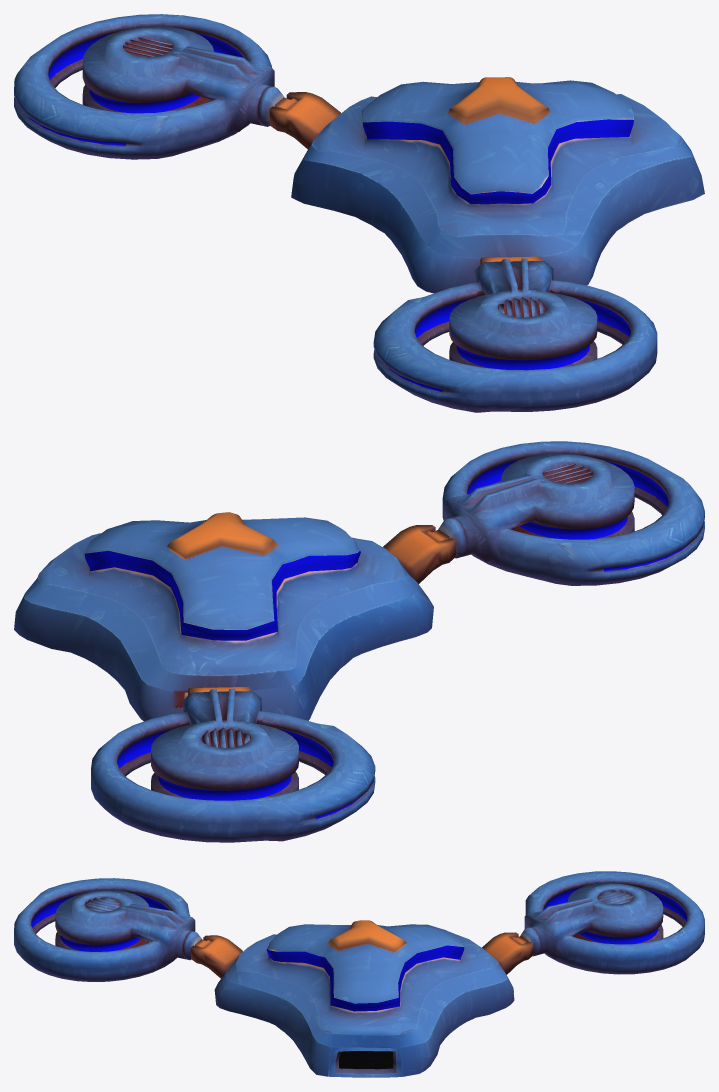
Rendered from drone_3.fbx.
3 views of the same model, one above another, from view 1: azimuth 30°, elevation 25°; view 2: azimuth 150°, elevation 25°; view 3: azimuth 270°, elevation 25° (orthographic). The views are drawn at different scales.
Visible parts, largest first — view 1: drone_base, DRON DL-3.005, DRON DL-3.001; view 2: drone_base, DRON DL-3.001, DRON DL-3.005; view 3: drone_base, DRON DL-3.001, DRON DL-3.005.
Part boxes in pixels (x1=…): drone_base: x1=291, y1=77, x2=704, y2=293; DRON DL-3.005: x1=14, y1=14, x2=341, y2=159; DRON DL-3.001: x1=373, y1=256, x2=657, y2=412; drone_base: x1=14, y1=512, x2=433, y2=721; DRON DL-3.001: x1=383, y1=441, x2=704, y2=585; DRON DL-3.005: x1=91, y1=686, x2=375, y2=842; drone_base: x1=214, y1=920, x2=514, y2=1077; DRON DL-3.001: x1=14, y1=878, x2=242, y2=981; DRON DL-3.005: x1=482, y1=871, x2=704, y2=974.
Bounding box in the file's own units: 73.02 × 18.04 × 126.
